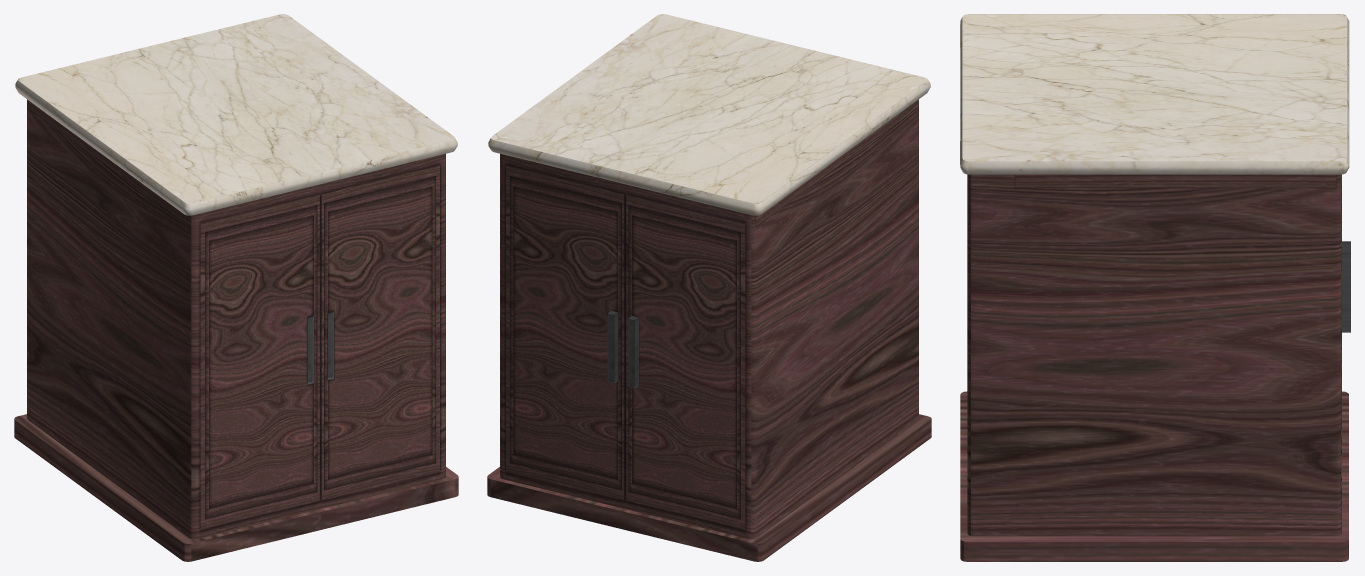
File: Cupboard.fbx
3 views of the same model, side by side, from view 1: azimuth 30°, elevation 25°; view 2: azimuth 150°, elevation 25°; view 3: azimuth 270°, elevation 25° (orthographic). The views are drawn at different scales.
Parts seen in each view (by area): view 1: Cupboard; view 2: Cupboard; view 3: Cupboard.
Boxes of the visible parts, x1,y1,x2,y2 form: Cupboard: [14, 14, 458, 561]; Cupboard: [487, 14, 931, 561]; Cupboard: [960, 14, 1350, 561].
Size of the model in its own units: 0.3249 by 0.4019 by 0.3566.
